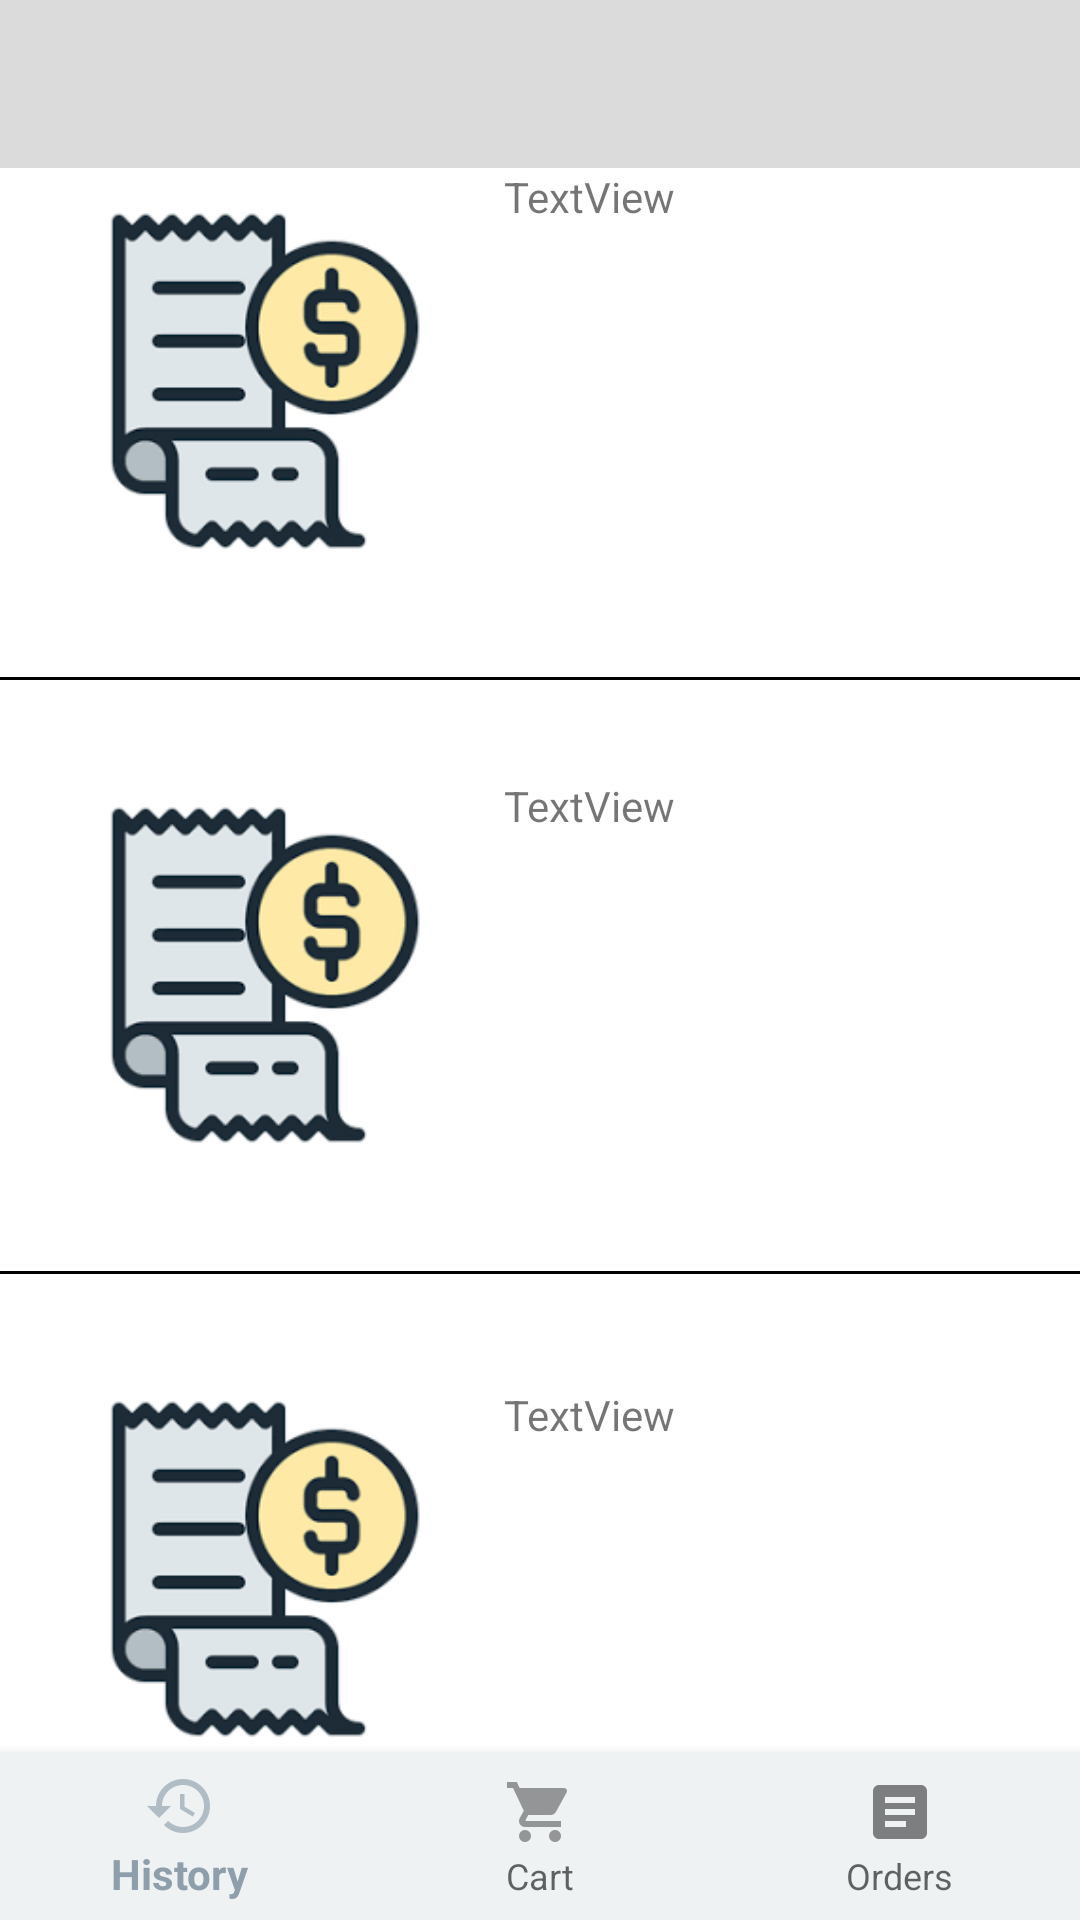

Point at icon controls on the screen. Image size 1080*1920, points as (x=x, y=y).
bill: (x=265, y=381), (x=265, y=975), (x=265, y=1569)
